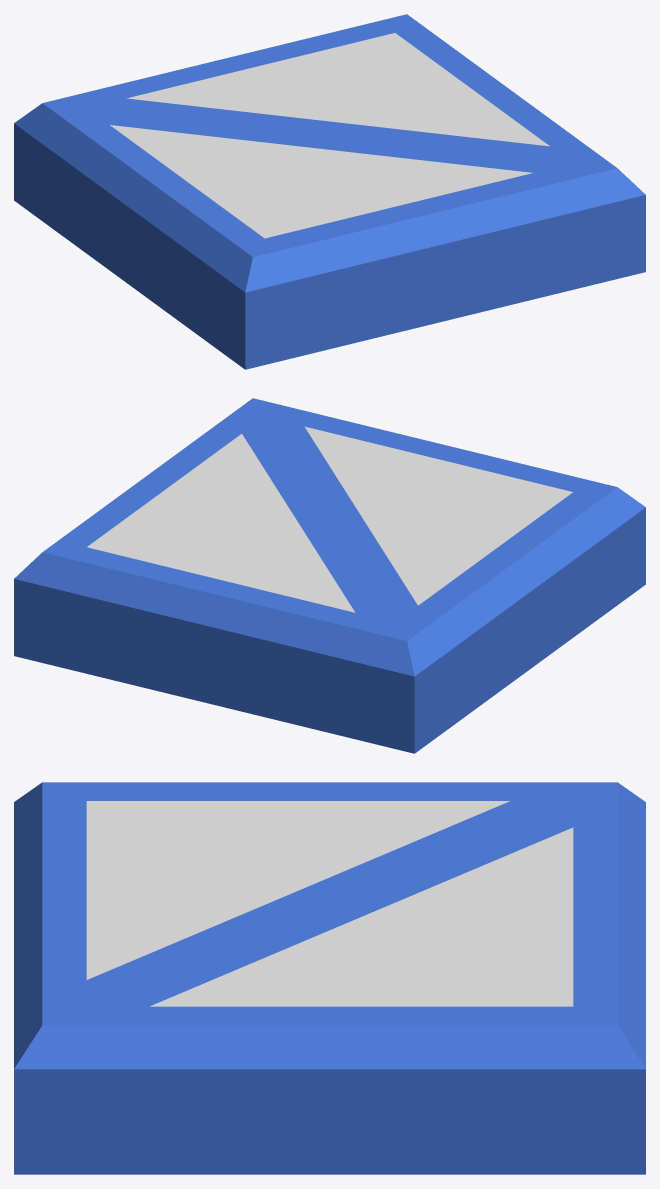
Rendered from GEO_Toggle_Floor.fbx.
The picture shows the model from 3 angles, top to bottom: view 1: azimuth 30°, elevation 25°; view 2: azimuth 150°, elevation 25°; view 3: azimuth 270°, elevation 25°; orthographic projection. The views are drawn at different scales.
Parts seen in each view (by area): view 1: Floor_Tile1; view 2: Floor_Tile1; view 3: Floor_Tile1.
Part boxes in pixels (left/top/right/bottom): Floor_Tile1: left=14, top=14, right=645, bottom=369; Floor_Tile1: left=14, top=398, right=645, bottom=753; Floor_Tile1: left=14, top=782, right=645, bottom=1174.
Size of the model in its own units: 100 by 23.99 by 100.
